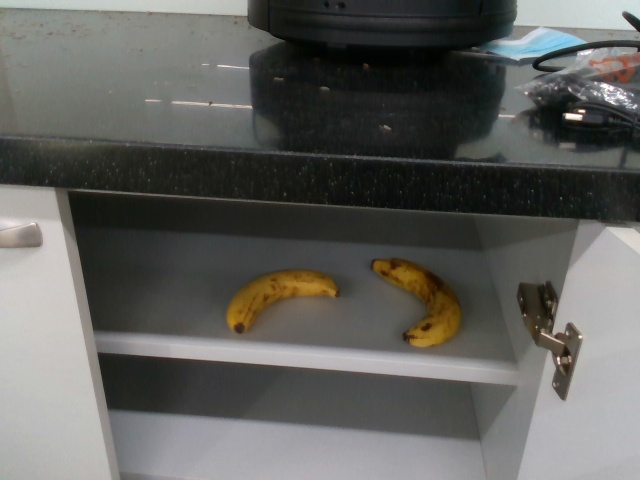banana: (364, 254, 463, 353), (224, 267, 340, 334)
